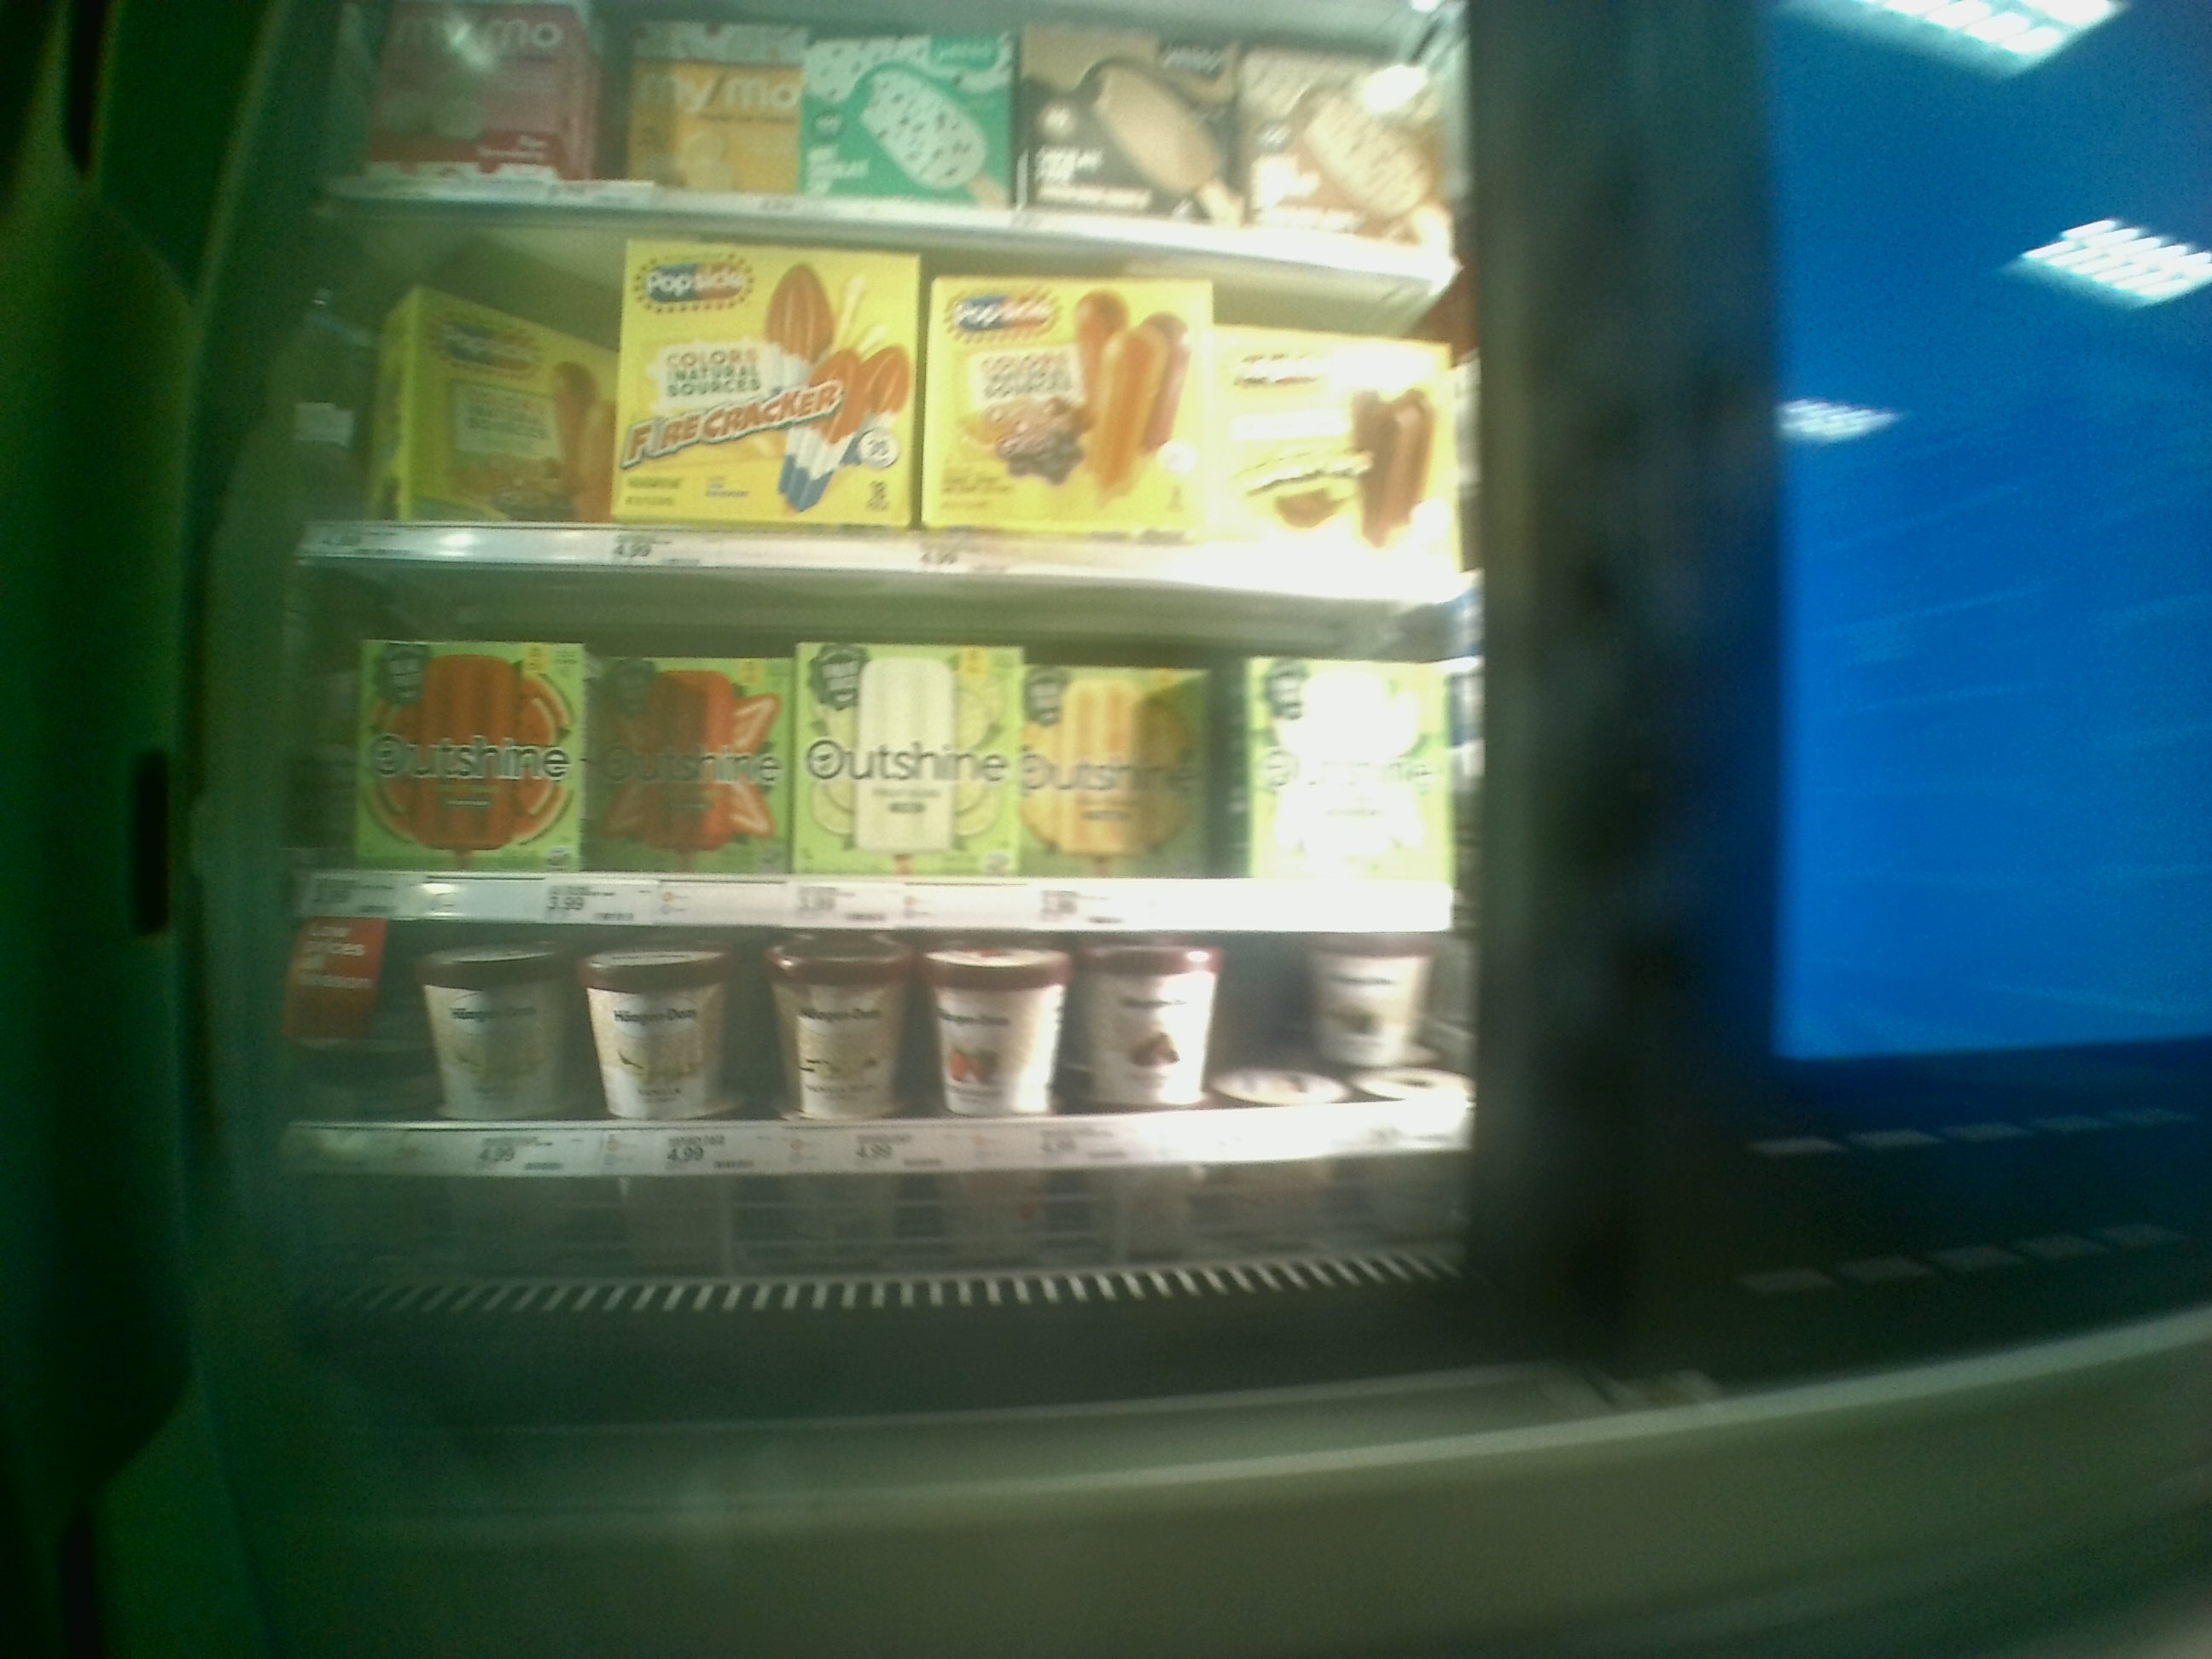shelf: (298, 915, 1487, 1272), (294, 568, 1479, 915), (291, 251, 1453, 584)
